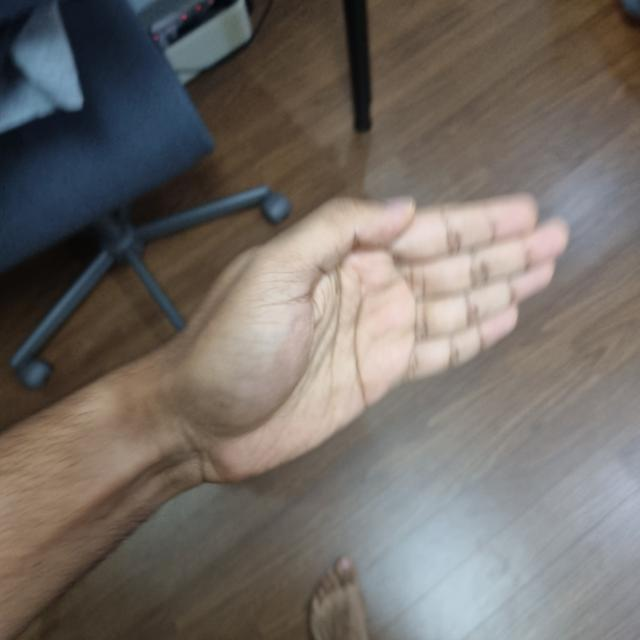Paper: (177, 199, 558, 474)
